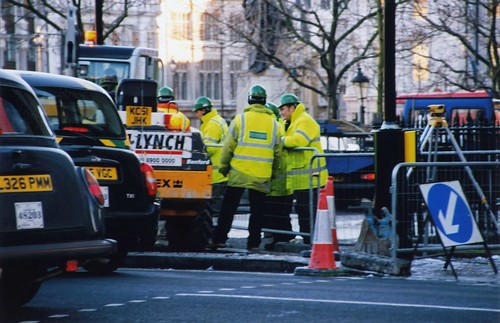person hardhat: (267, 94, 326, 255), (229, 85, 271, 252), (193, 90, 234, 225), (153, 85, 195, 133), (85, 66, 123, 107)
